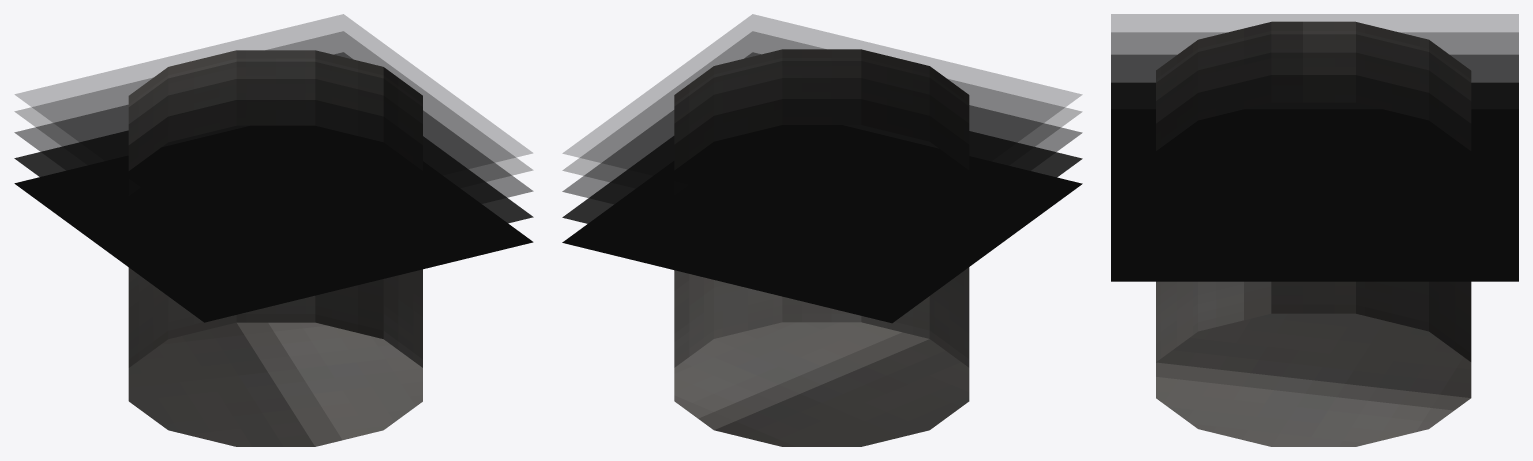
The model's file is Room12Hole.glb.
3 views of the same model, side by side, from view 1: azimuth 30°, elevation 25°; view 2: azimuth 150°, elevation 25°; view 3: azimuth 270°, elevation 25° (orthographic). The views are drawn at different scales.
Visible parts, largest first — view 1: Hole, pPlane1, pPlane2, pPlane3, pPlane4, pPlane5; view 2: Hole, pPlane1, pPlane2, pPlane3, pPlane4, pPlane5; view 3: Hole, pPlane1, pPlane2, pPlane3, pPlane4, pPlane5.
Boxes of the visible parts, x1,y1,x2,y2 form: Hole: [128, 50, 422, 446]; pPlane1: [15, 14, 532, 233]; pPlane2: [15, 31, 532, 250]; pPlane3: [14, 52, 533, 271]; pPlane4: [14, 126, 533, 297]; pPlane5: [14, 177, 533, 322]; Hole: [674, 49, 969, 446]; pPlane1: [563, 14, 1081, 233]; pPlane2: [563, 31, 1081, 250]; pPlane3: [562, 52, 1082, 271]; pPlane4: [562, 125, 1082, 297]; pPlane5: [562, 177, 1082, 323]; Hole: [1156, 21, 1471, 446]; pPlane1: [1111, 14, 1518, 185]; pPlane2: [1111, 32, 1518, 204]; pPlane3: [1111, 55, 1518, 226]; pPlane4: [1111, 83, 1518, 254]; pPlane5: [1111, 255, 1518, 281].
Size of the model in its own units: 4.45 by 3.52 by 4.45.
Materials: 6 (1 with a texture image).
